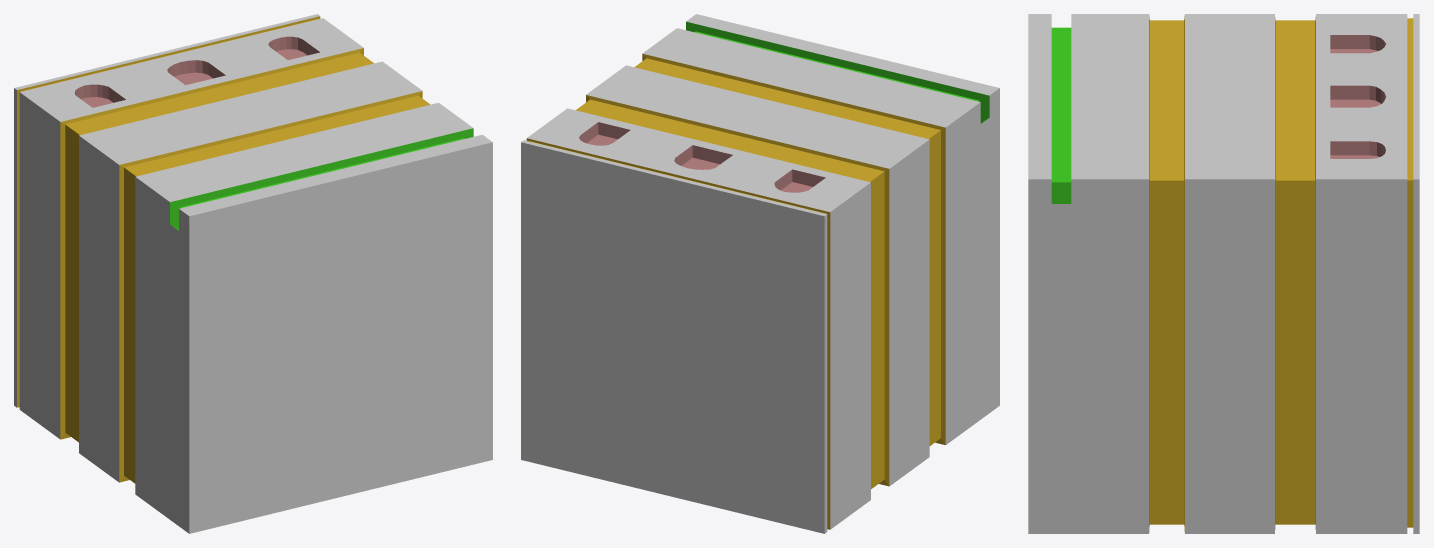
The model's file is Apiray.fbx.
3 renders of one model, left to right at view 1: azimuth 30°, elevation 25°; view 2: azimuth 150°, elevation 25°; view 3: azimuth 270°, elevation 25°, orthographic. The views are drawn at different scales.
Parts seen in each view (by area): view 1: Apiary; view 2: Apiary; view 3: Apiary.
Part boxes in pixels (<box>): Apiary: <box>14,14,492,533</box>; Apiary: <box>521,14,999,533</box>; Apiary: <box>1028,14,1419,533</box>.
Bounding box in the file's own units: 100 × 100 × 100.
